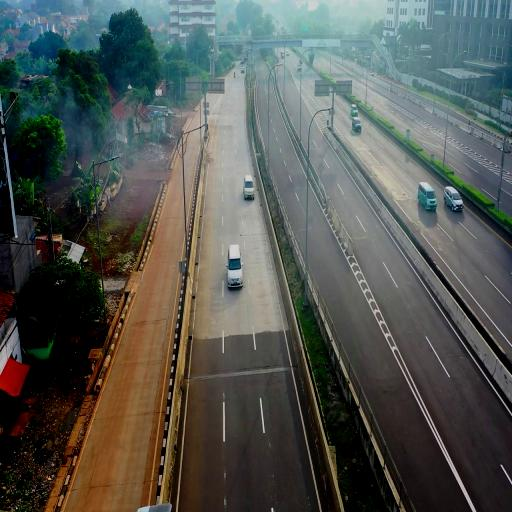vehicle: (227, 244, 243, 289), (227, 244, 242, 288), (444, 186, 464, 214), (243, 176, 255, 202), (350, 109, 362, 134)
